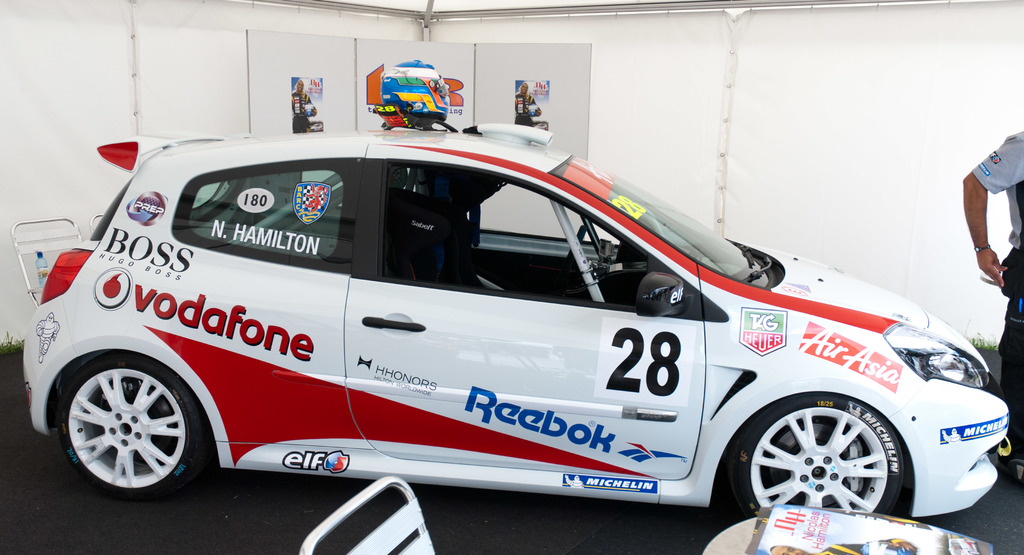Car: (21, 137, 1011, 519)
